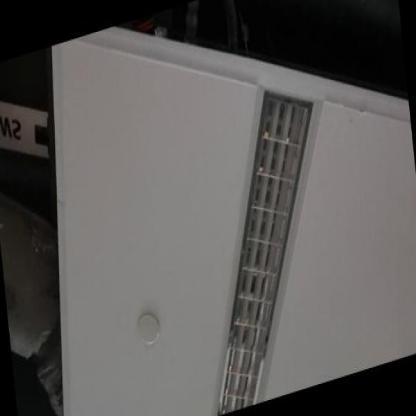light_off: (178, 52, 357, 414)
